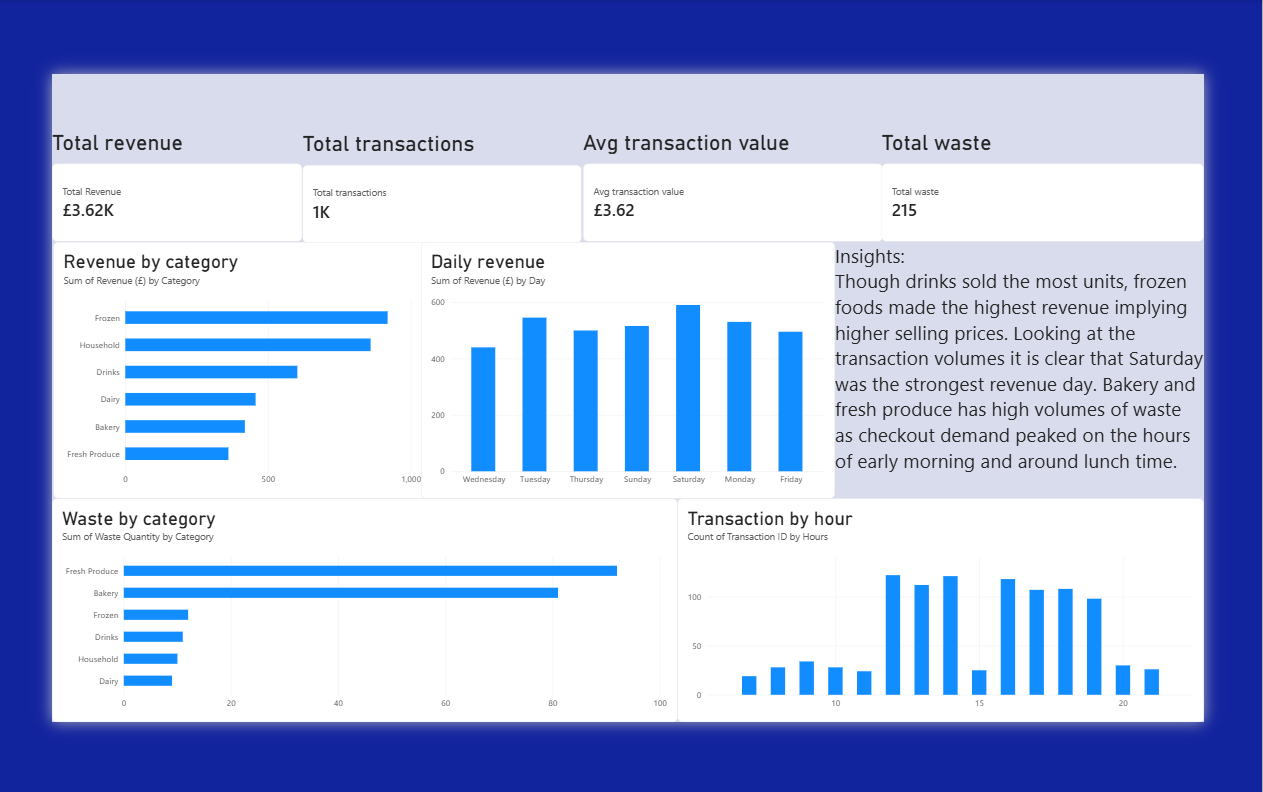

The page's visual inventory and layout, read from the dashboard file:
{"tool":"powerbi","page":{"name":"Sales Page","canvas":[1920,1080],"ordinal":0},"visuals":[{"type":"cardVisual","title":"Total revenue","fields":{"Data":["Sum(RetailTransactions.Revenue (£))"]},"box":[0,92.5,417.5,187.5],"z":0},{"type":"cardVisual","title":"Total transactions","fields":{"Data":["CountNonNull(RetailTransactions.Transaction ID)"]},"box":[417.5,92.5,465,187.5],"z":1},{"type":"cardVisual","title":"Avg transaction value","fields":{"Data":["Avg(RetailTransactions.Revenue (£))"]},"box":[885,92.5,500,187.5],"z":2},{"type":"cardVisual","title":"Total waste","fields":{"Data":["Sum(RetailTransactions.Waste Quantity)"]},"box":[1382.5,92.5,537.5,187.5],"z":3},{"type":"clusteredBarChart","title":"Revenue by category","fields":{"Category":["RetailTransactions.Category"],"Y":["Sum(RetailTransactions.Revenue (£))"]},"box":[2.5,280,630,427.5],"z":4},{"type":"clusteredColumnChart","title":"Daily revenue","fields":{"Category":["RetailTransactions.Day"],"Y":["Sum(RetailTransactions.Revenue (£))"]},"box":[615,280,690,427.5],"z":5},{"type":"clusteredColumnChart","title":"Transaction by hour","fields":{"Category":["RetailTransactions.Hours"],"Y":["CountNonNull(RetailTransactions.Transaction ID)"]},"box":[1042.5,707.5,877.5,372.5],"z":6},{"type":"clusteredBarChart","title":"Waste by category","fields":{"Category":["RetailTransactions.Category"],"Y":["Sum(RetailTransactions.Waste Quantity)"]},"box":[0,707.5,1042.5,372.5],"z":8},{"type":"textbox","box":[1305.4,281.1,613.5,427],"z":9}]}

Visuals, with their boxes on the page's 1920x1080 design canvas (x1, y1, x2, y2). These are canvas units, not pixel positions in the 1263x792 screenshot, which may show the page scaled, cropped or inside an application window:
"Total revenue" cardVisual: [x1=0, y1=92, x2=418, y2=280]
"Total transactions" cardVisual: [x1=418, y1=92, x2=882, y2=280]
"Avg transaction value" cardVisual: [x1=885, y1=92, x2=1385, y2=280]
"Total waste" cardVisual: [x1=1382, y1=92, x2=1920, y2=280]
"Revenue by category" clusteredBarChart: [x1=2, y1=280, x2=632, y2=708]
"Daily revenue" clusteredColumnChart: [x1=615, y1=280, x2=1305, y2=708]
"Transaction by hour" clusteredColumnChart: [x1=1042, y1=708, x2=1920, y2=1080]
"Waste by category" clusteredBarChart: [x1=0, y1=708, x2=1042, y2=1080]
textbox: [x1=1305, y1=281, x2=1919, y2=708]
